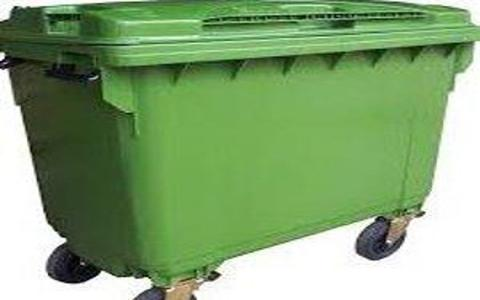Proper garbage: (3, 1, 477, 299)
